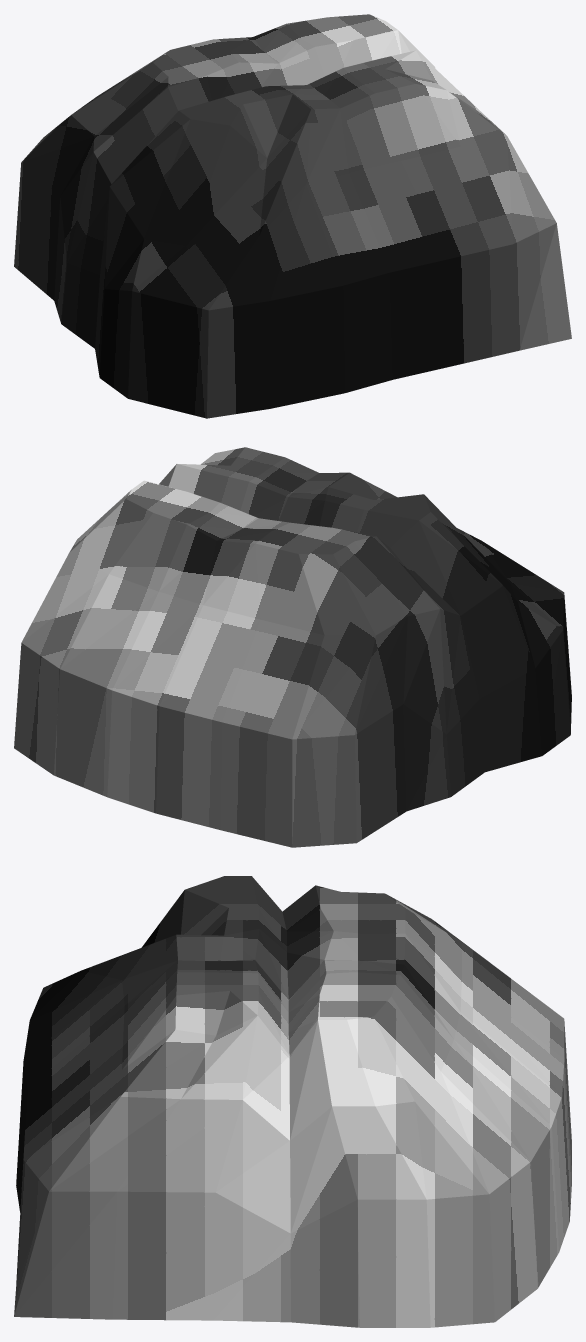
The model's file is Rock_341x04.gltf.
The picture shows the model from 3 angles, top to bottom: view 1: azimuth 30°, elevation 25°; view 2: azimuth 150°, elevation 25°; view 3: azimuth 270°, elevation 25°; orthographic projection. The views are drawn at different scales.
Visible parts, largest first — view 1: Rock_341x04; view 2: Rock_341x04; view 3: Rock_341x04.
Part boxes in pixels (<box>): Rock_341x04: <box>14,14,571,418</box>; Rock_341x04: <box>14,447,571,847</box>; Rock_341x04: <box>14,876,571,1327</box>.
Bounding box in the file's own units: 1.17 × 0.6159 × 1.15.
Materials: 1 (1 with a texture image).
